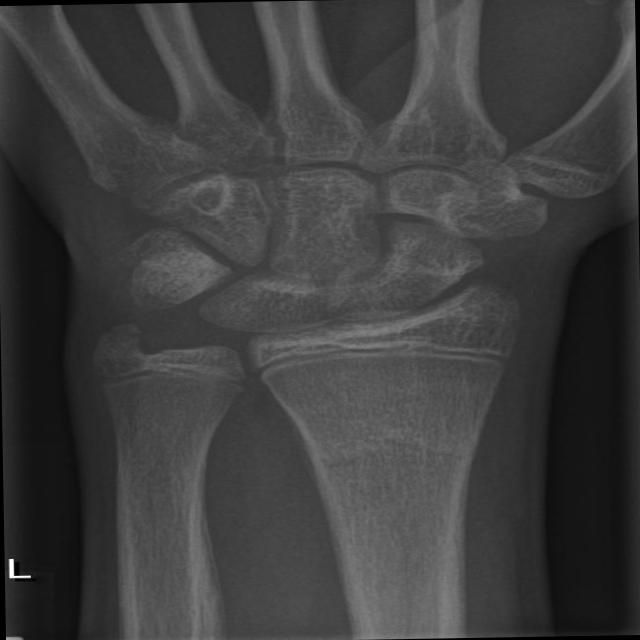fracture: (235, 326, 534, 391), (296, 422, 486, 478), (85, 346, 255, 402)
